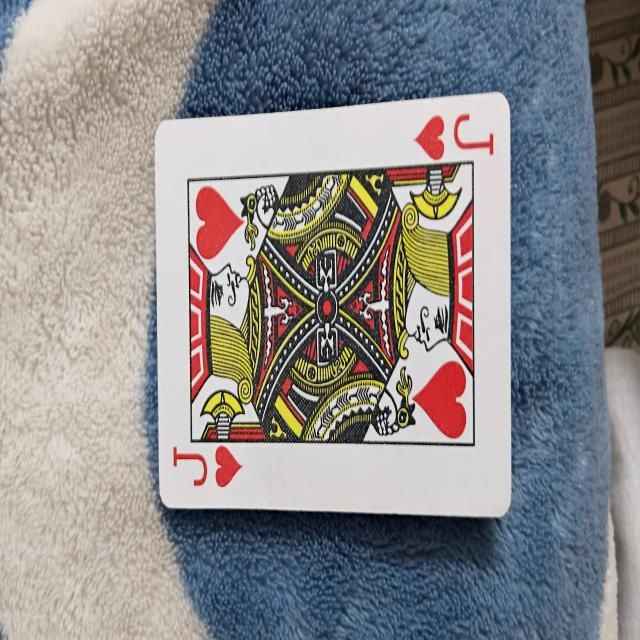JH: (152, 98, 514, 522)
